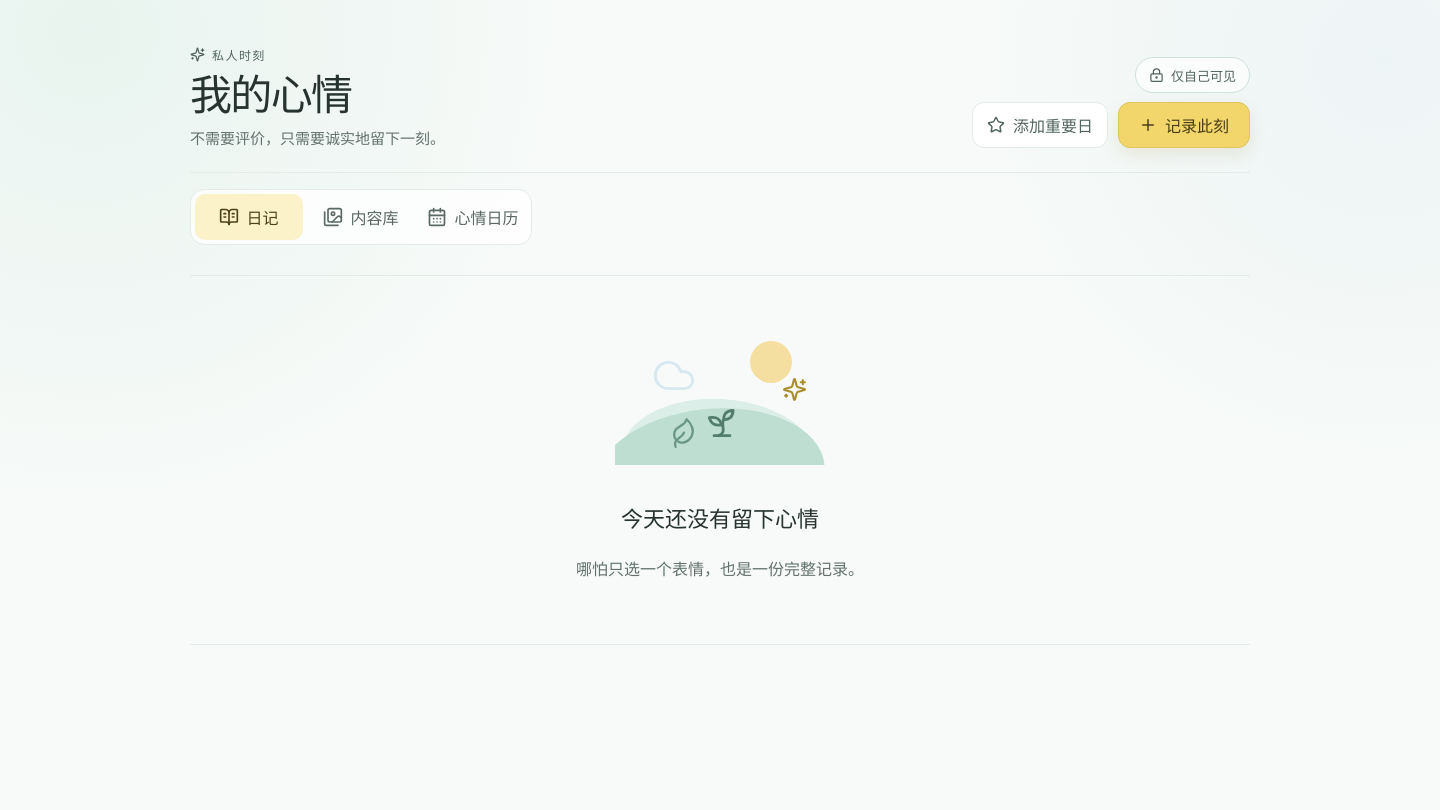
EmotionModule › offers an upward creation menu and saves an important day
This screenshot has width=1440, height=810.
Click the button "添加重要日". click: point(1040, 125)
box: [972,102,1108,148]
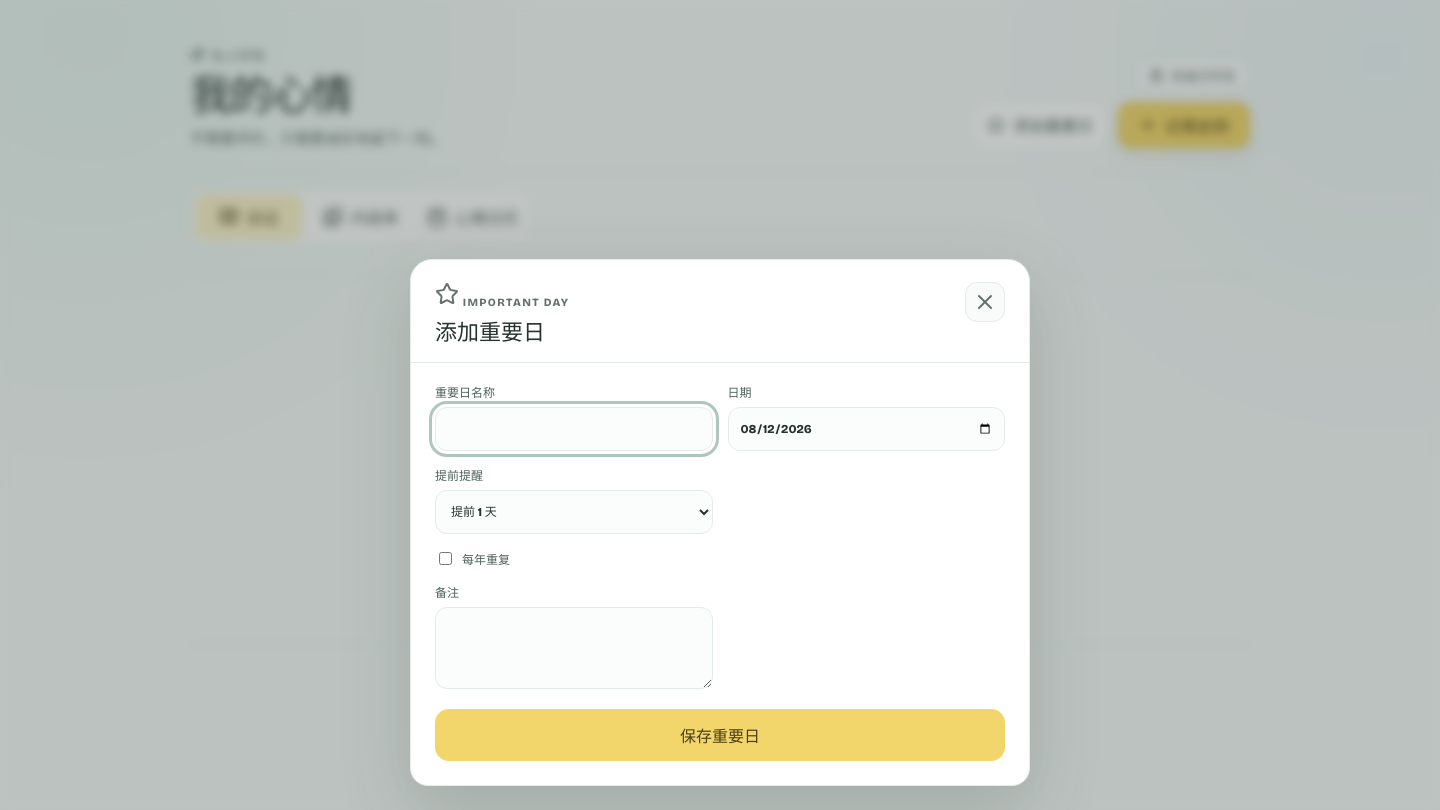
Type "出发旅行" into the field labelled "重要日名称". click: point(574, 429)
box: [435,407,712,451]
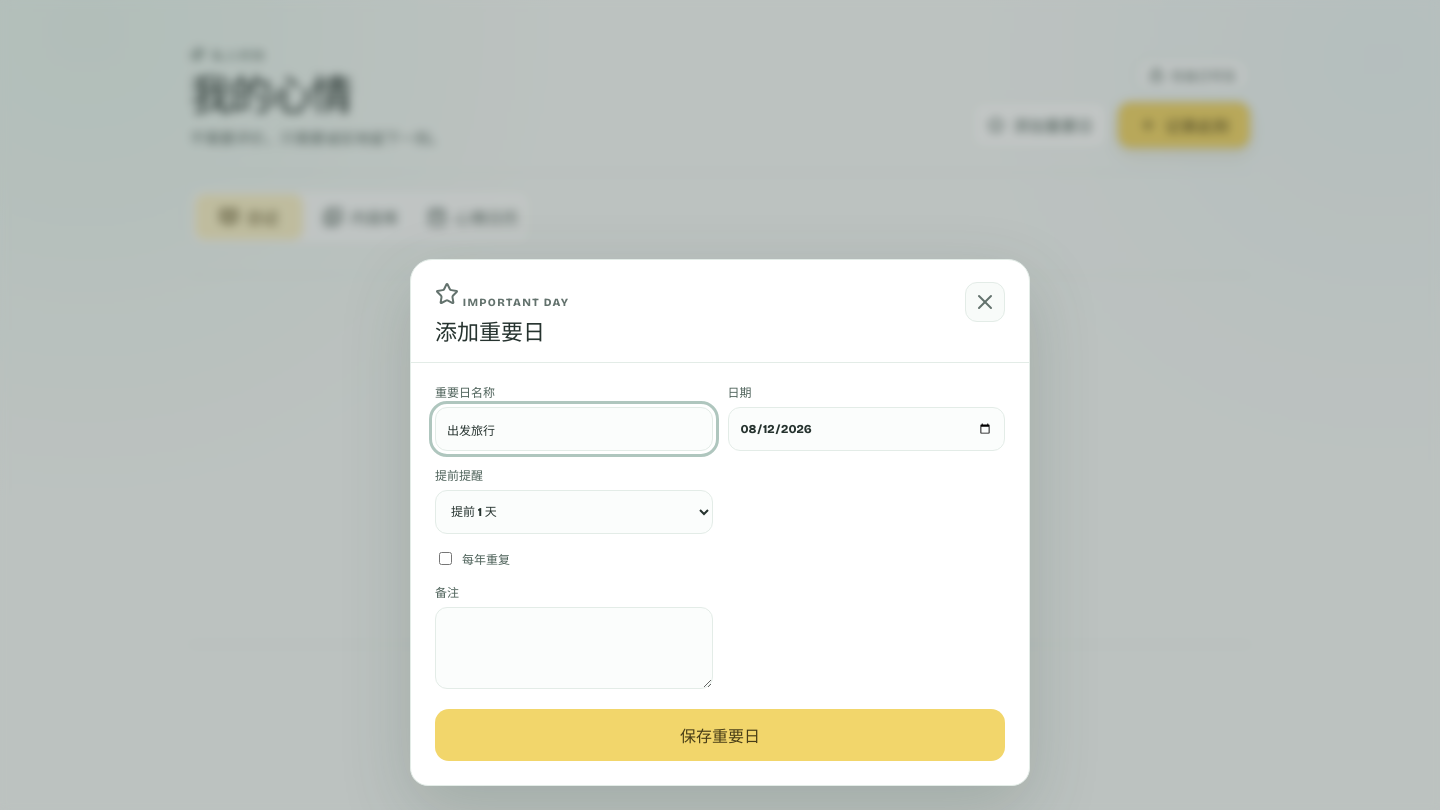
Type "2026-08-13" into the date field labelled "日期". click: point(866, 429)
box: [728,407,1005,451]
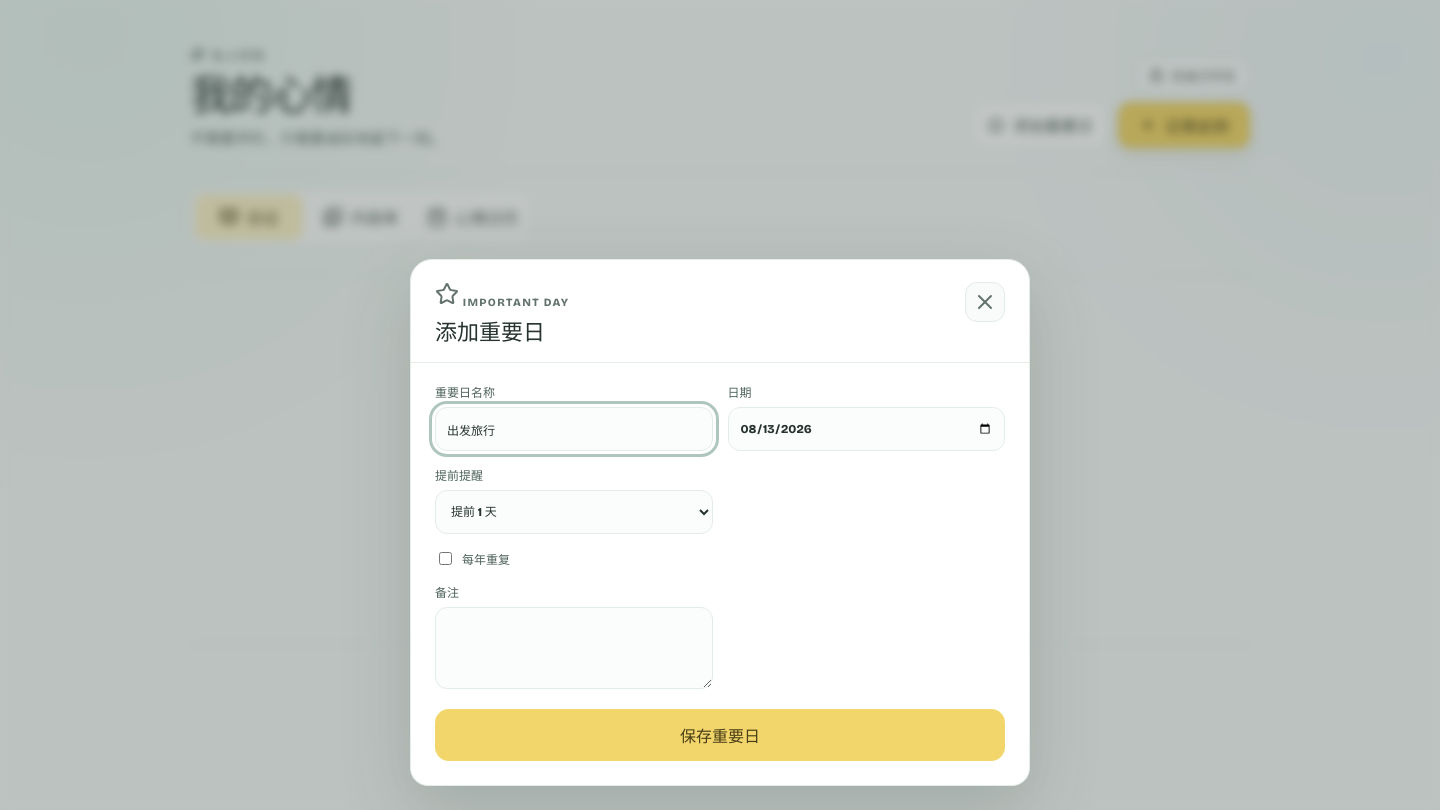
Select "提前 30 天" in the dropdown labelled "提前提醒". click: point(574, 512)
box: [435,490,712,534]
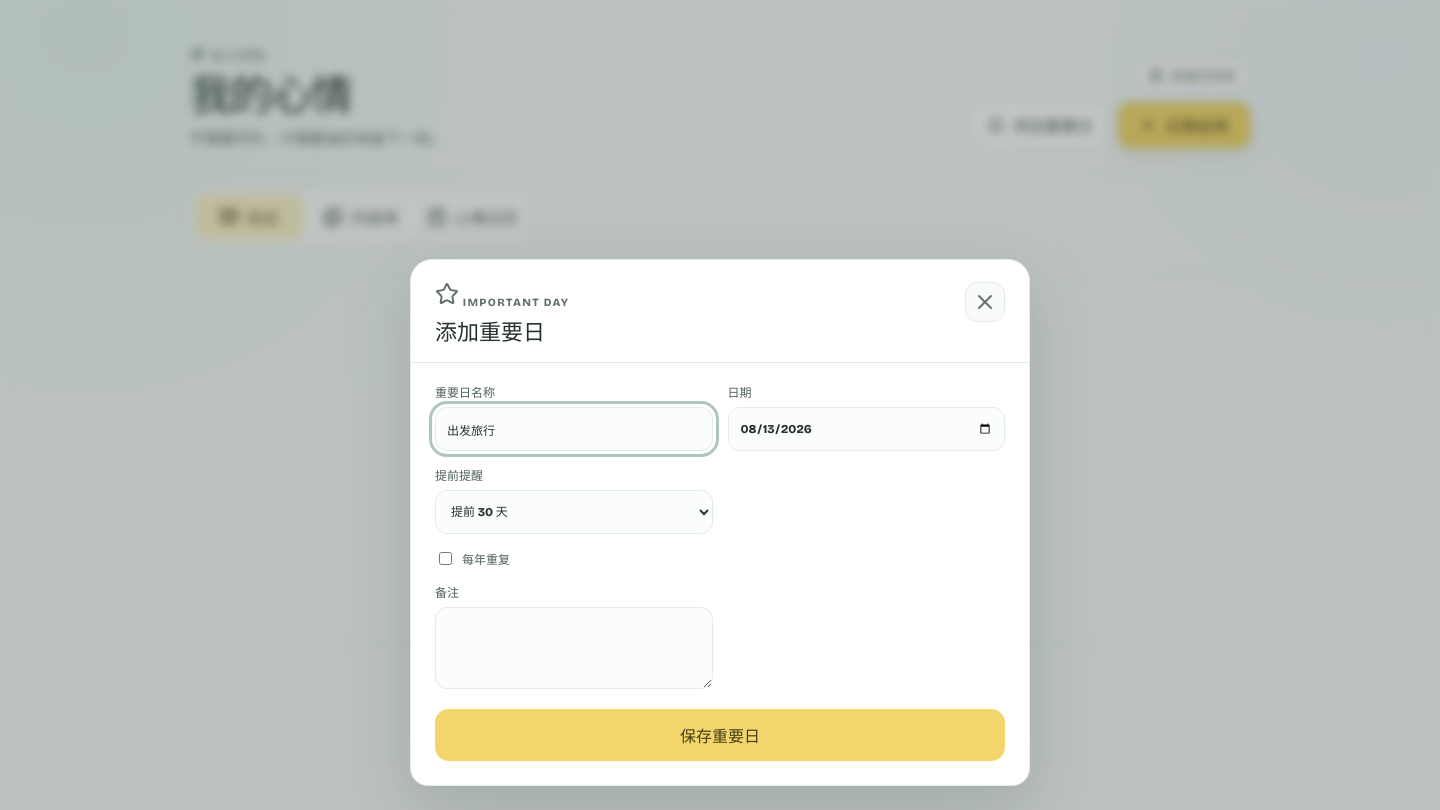
Click the button "保存重要日". click: point(720, 735)
box: [435,709,1005,761]
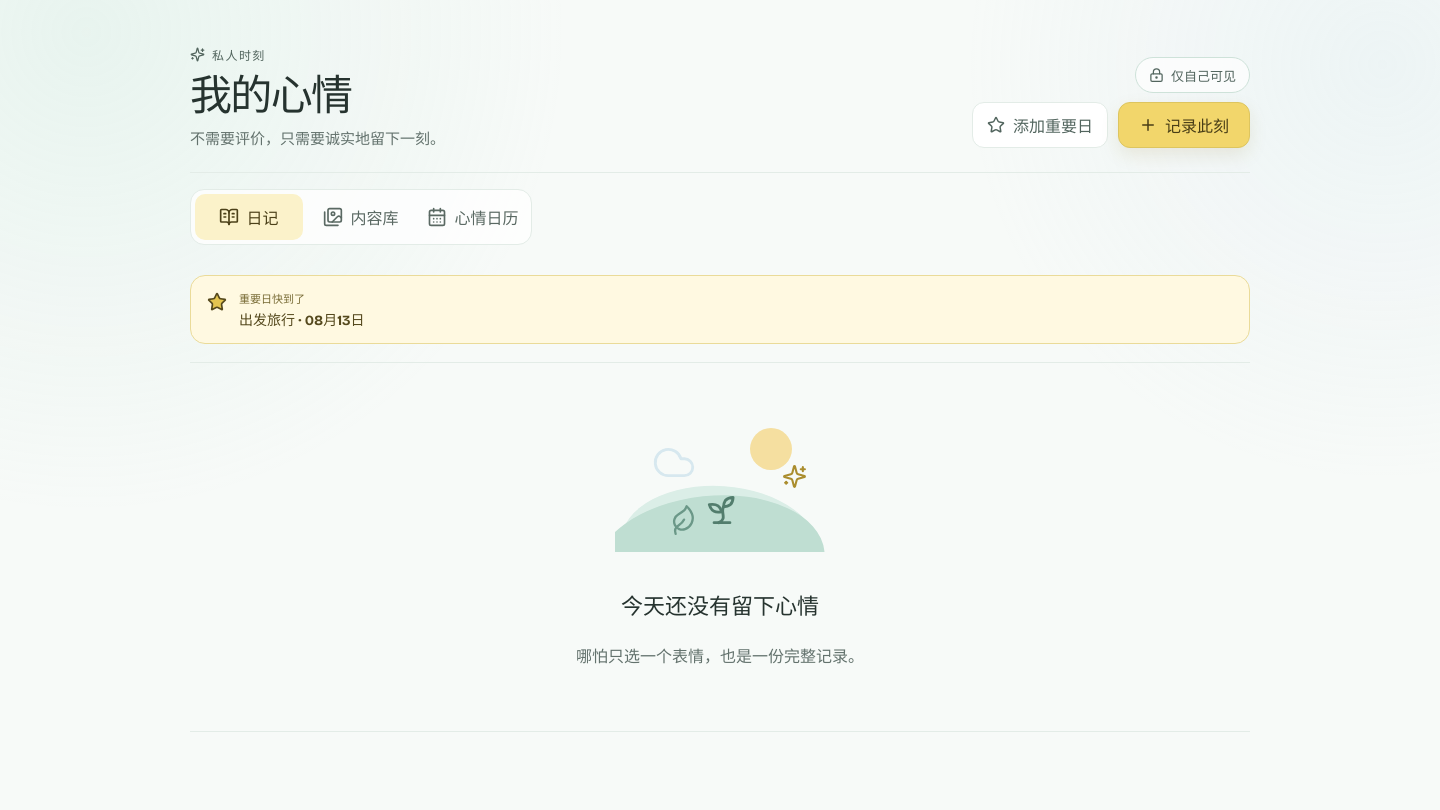
expect the element named "临近的重要日" shows "出发旅行": met, box [239,312,295,329]
